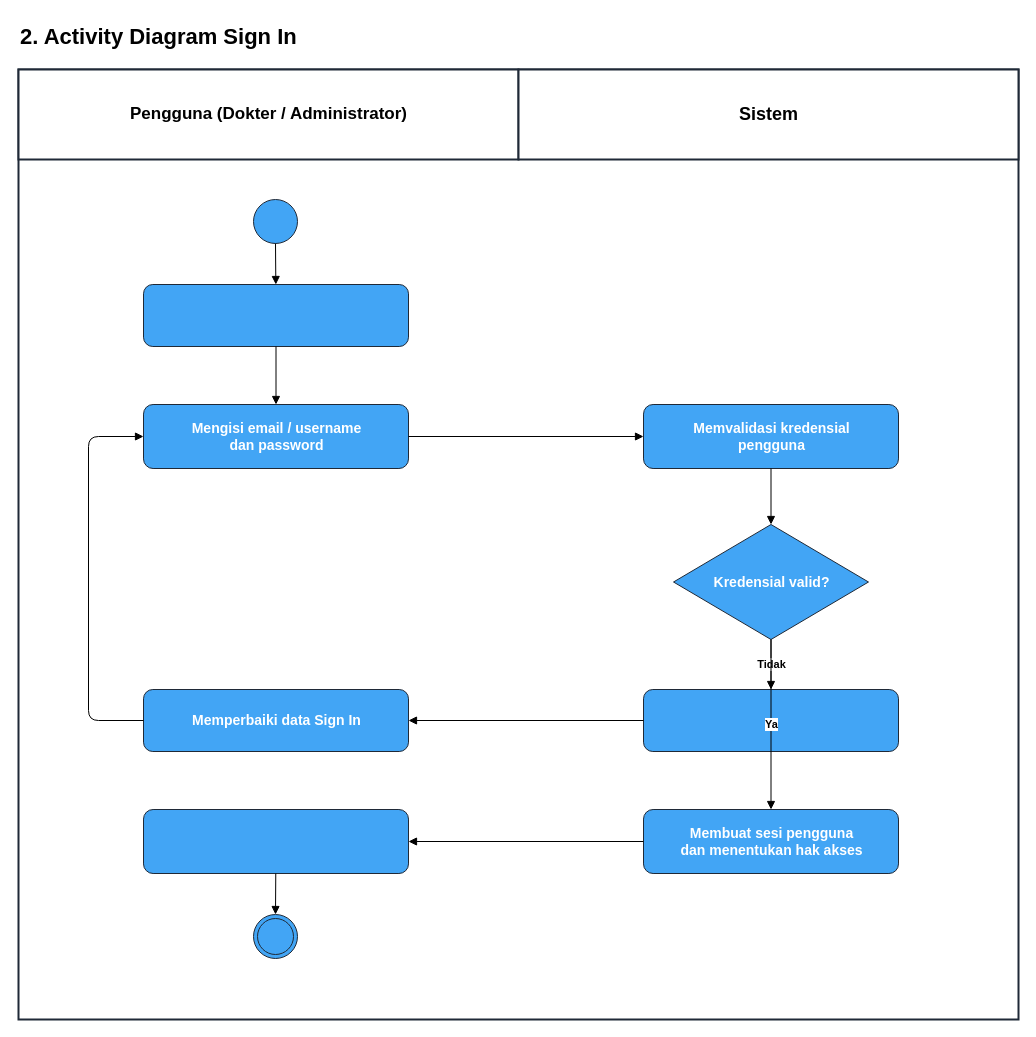
Image size: 1036x1037. Some labels were removed from this diagram. The centre of each missing label's shape, as x and y in pixels:
Membuka halaman Sign In: pixel 275 315
Menampilkan dashboard sesuai peran pengguna: pixel 275 841
Menampilkan pesan login gagal: pixel 770 720
